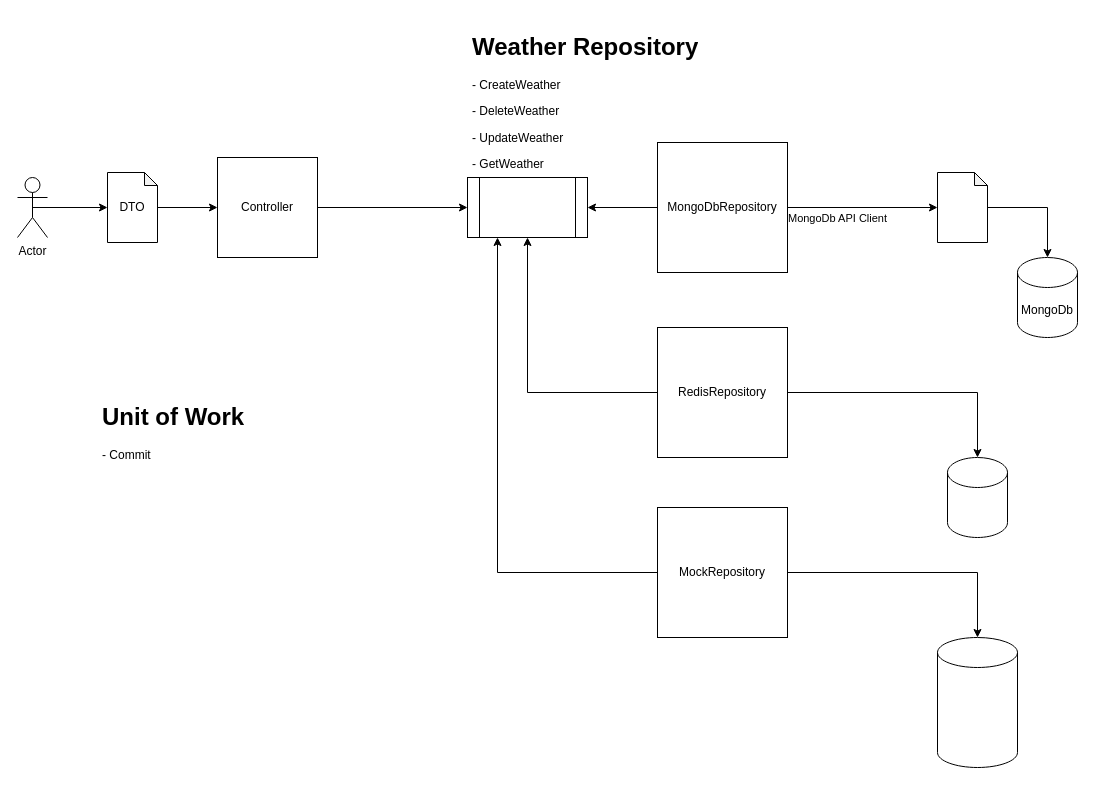
Image size: 1095x785. Some labels were removed from this diagram. Each missing label, with the box of its shape:
Entity: (936, 172, 988, 242)
InMemoryDb: (936, 636, 1018, 768)
IRepository: (466, 176, 588, 238)
Redis: (946, 456, 1008, 538)
